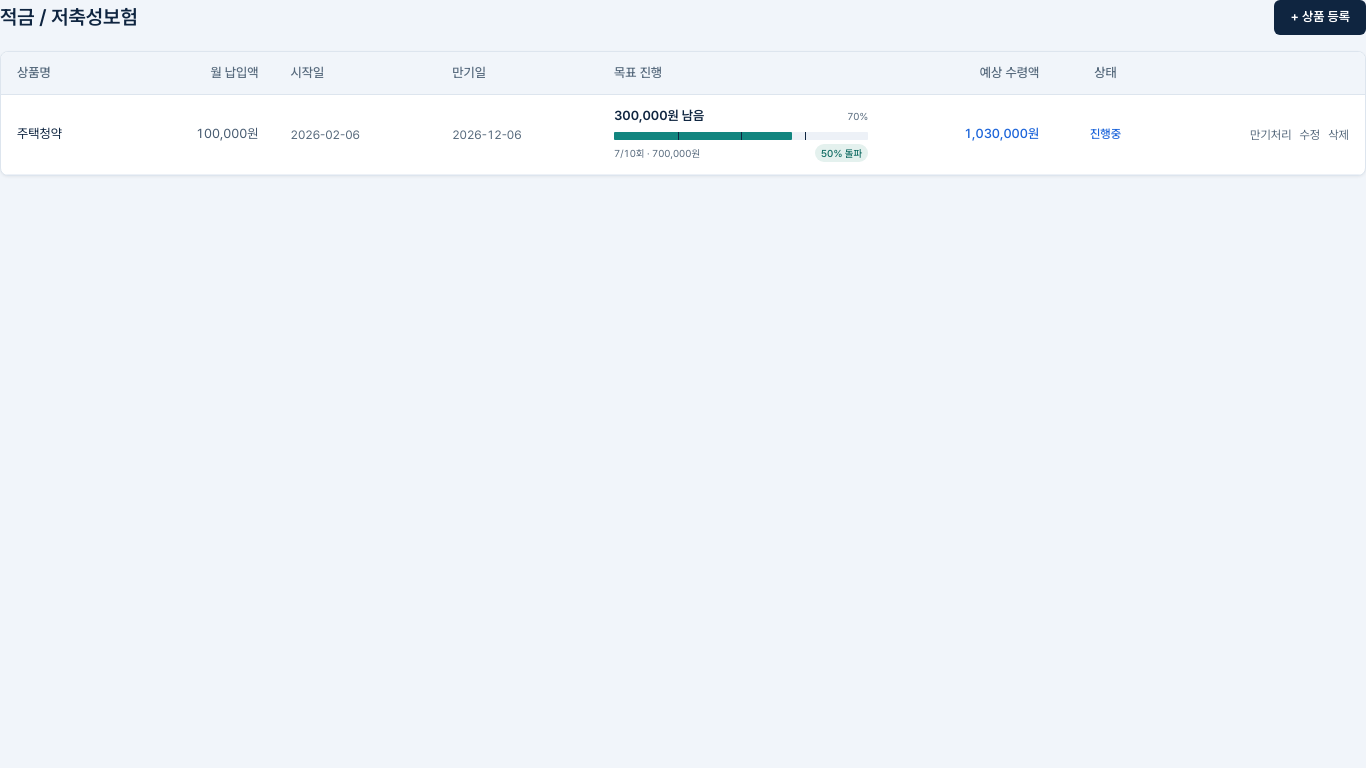
Test: 만기 처리 › 확인하면 만기 처리하고 원금·이자·수령액을 알린다
The image size is (1366, 768).
Click the button "만기처리". click: (1271, 134)
box: top-left (1250, 126), bottom-right (1292, 142)
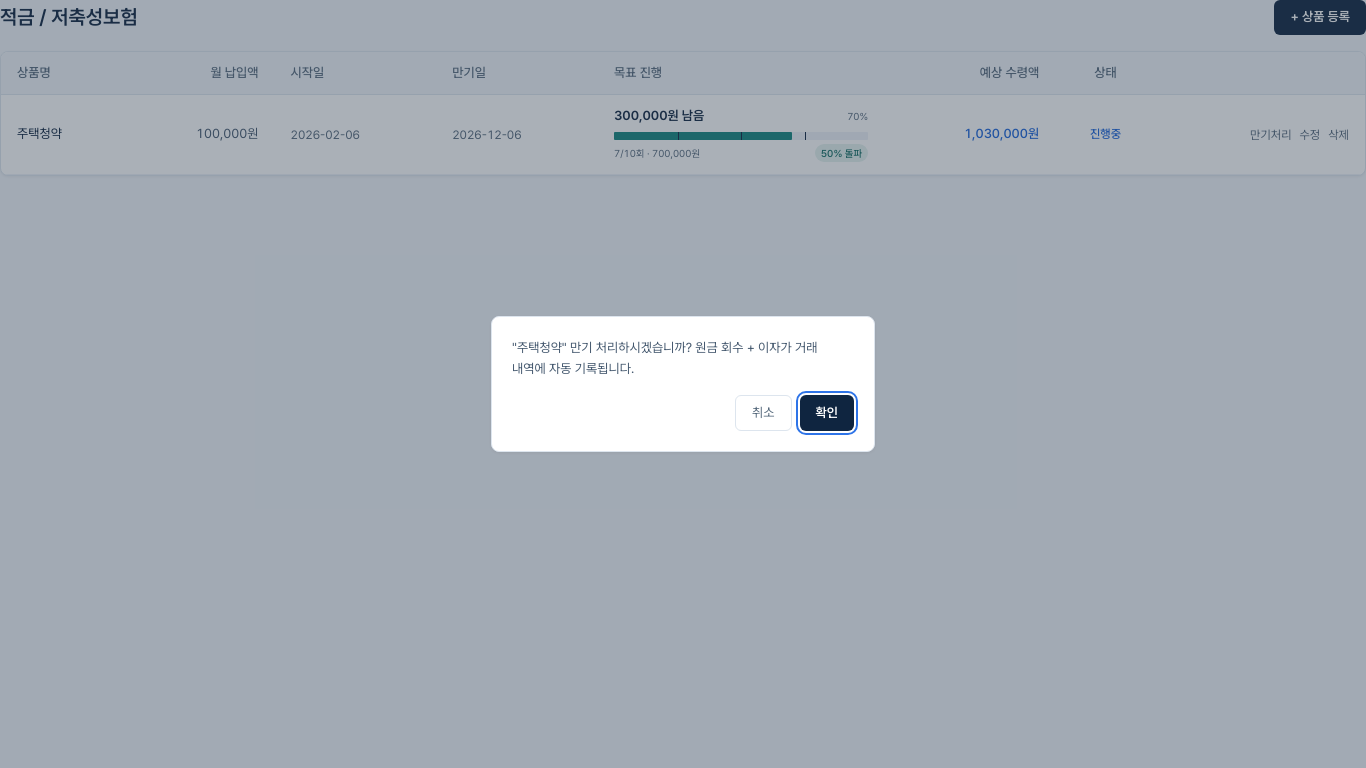
Expected: the text "\"주택청약\" 만기 처리하시겠습니까? 원금 회수 + 이자가 거래 내역에 자동 기록됩니다." is shown, top-left (512, 337), bottom-right (854, 379)
Click the button "확인". click: (827, 413)
box: top-left (800, 395), bottom-right (854, 431)
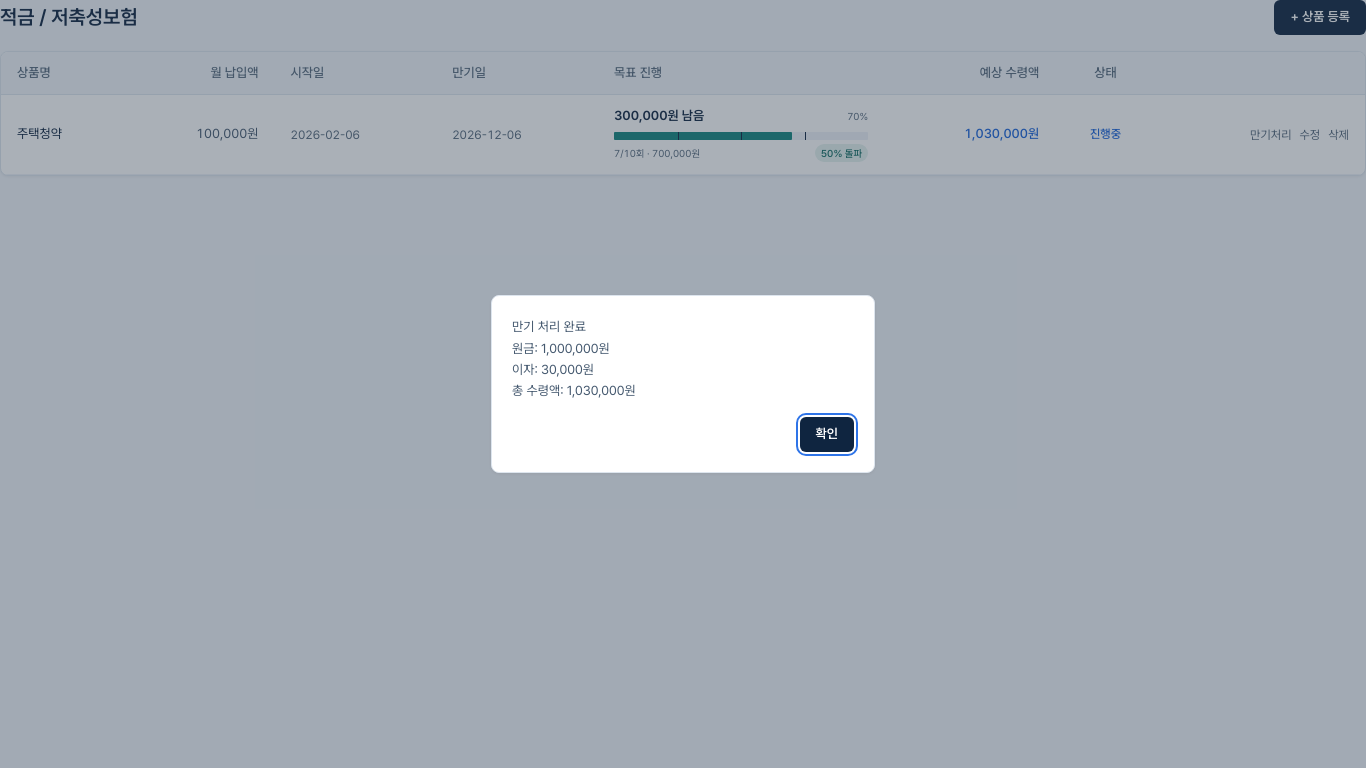
Expected: the text "만기 처리 완료 원금: 1,000,000원 이자: 30,000원 총 수령액: 1,030,000원" is shown, top-left (512, 320), bottom-right (636, 398)
